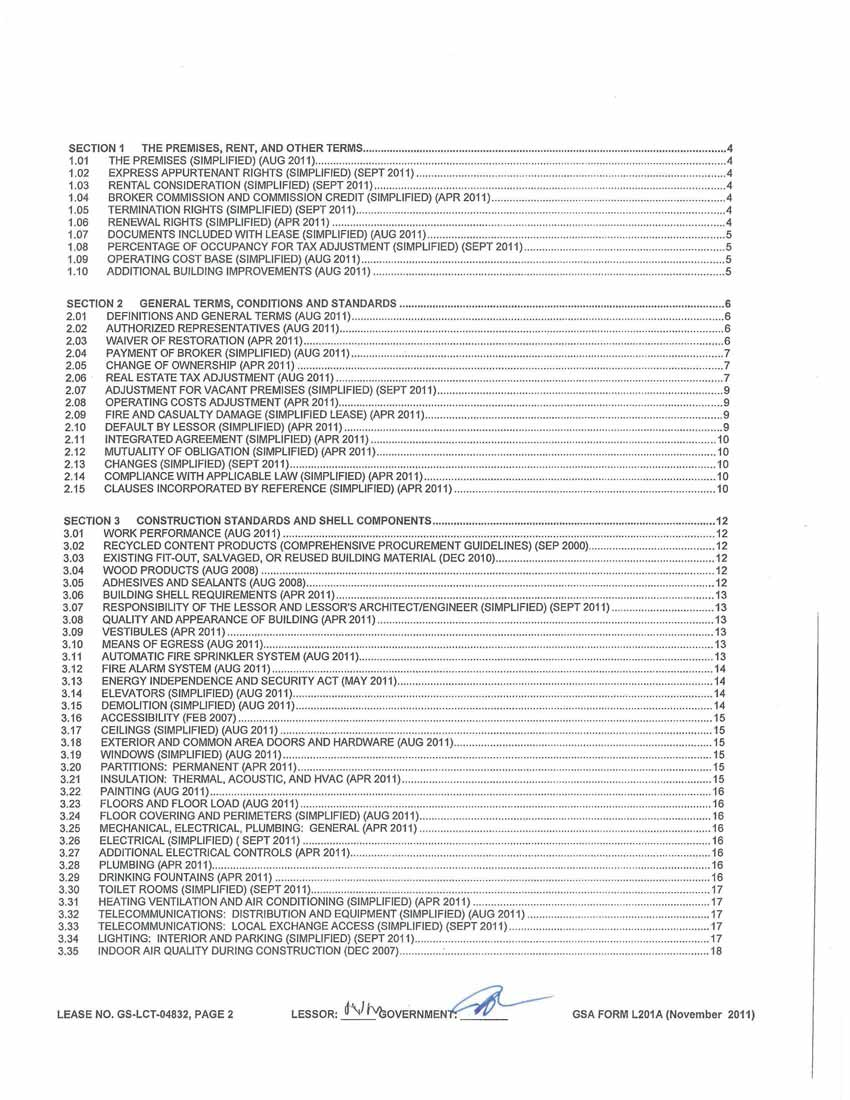handwritten: (446, 971, 551, 1030), (339, 984, 377, 1026)
